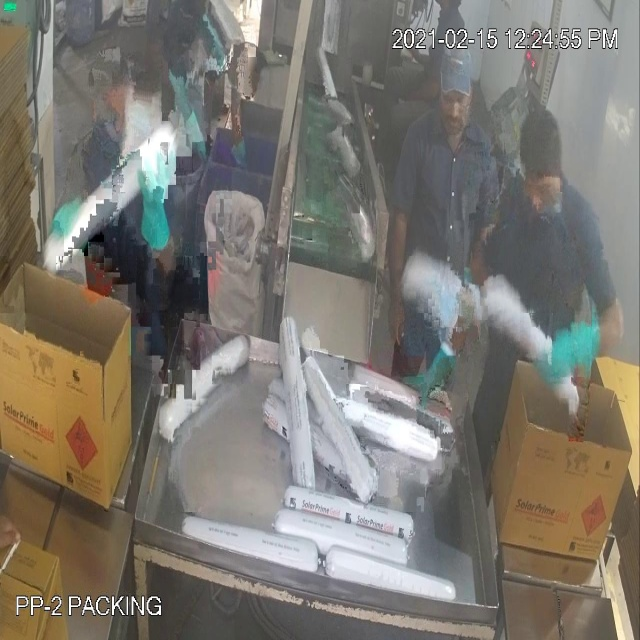Guantes: (529, 293, 629, 392), (397, 332, 464, 415), (130, 154, 176, 269)
Sin_guantes: (378, 187, 417, 356)
